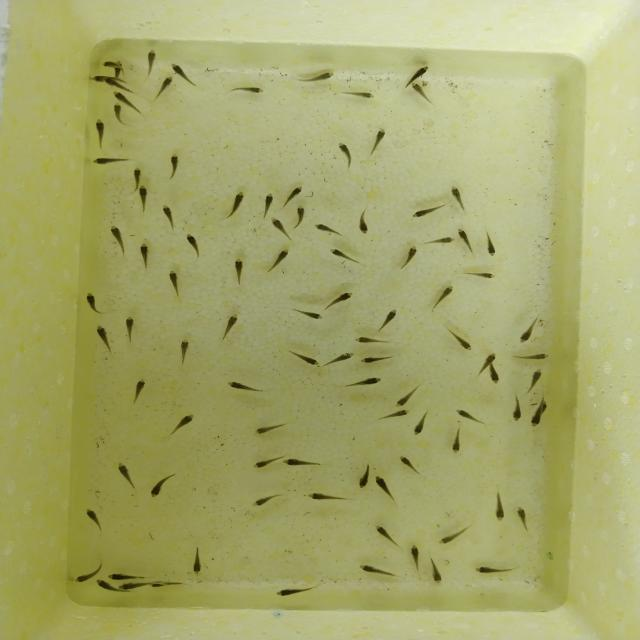fingerling: (373, 305, 406, 334), (370, 524, 404, 551), (442, 327, 477, 352), (283, 344, 321, 367), (512, 314, 540, 345), (248, 490, 289, 511), (92, 324, 123, 351), (352, 561, 396, 580), (292, 70, 341, 87), (319, 290, 356, 312), (337, 375, 386, 391), (164, 413, 200, 434), (170, 63, 204, 85), (326, 245, 363, 265), (105, 224, 128, 256), (263, 247, 289, 275), (374, 474, 400, 502), (432, 528, 474, 545), (113, 91, 144, 114), (408, 81, 435, 107), (430, 283, 456, 310), (226, 185, 246, 218), (354, 204, 374, 237), (448, 182, 470, 212), (284, 306, 325, 322), (412, 407, 433, 438), (280, 183, 307, 207), (393, 384, 420, 408), (397, 454, 424, 478), (425, 556, 446, 586), (491, 487, 509, 522), (225, 380, 264, 396), (220, 312, 242, 340), (248, 422, 292, 436), (305, 490, 346, 505), (184, 230, 203, 262), (81, 292, 106, 316), (366, 127, 388, 154), (287, 205, 308, 233), (374, 408, 413, 423), (456, 227, 478, 253), (398, 245, 420, 271), (165, 153, 186, 180), (147, 473, 168, 500), (135, 241, 154, 270), (153, 73, 175, 98), (83, 509, 108, 531), (335, 139, 355, 166), (513, 504, 532, 532), (129, 378, 151, 402), (74, 562, 100, 582), (454, 407, 486, 423), (258, 192, 279, 216), (481, 230, 499, 258), (324, 351, 355, 367), (450, 426, 466, 457), (340, 89, 381, 101), (461, 268, 502, 280), (508, 351, 552, 362), (136, 183, 152, 213), (314, 222, 344, 238), (283, 456, 323, 468), (190, 547, 206, 577), (160, 202, 177, 230), (271, 587, 314, 598), (358, 353, 397, 365), (251, 454, 280, 470), (92, 118, 107, 148), (230, 258, 248, 283), (408, 206, 440, 220), (474, 351, 496, 371), (352, 335, 392, 346), (116, 461, 134, 485), (473, 565, 515, 575), (106, 79, 132, 95), (406, 64, 432, 80), (424, 235, 456, 248), (526, 367, 544, 390), (508, 400, 525, 424), (168, 270, 183, 297), (178, 338, 192, 366), (357, 462, 372, 488), (89, 157, 132, 166), (124, 166, 144, 185), (270, 218, 288, 239), (108, 104, 125, 126), (485, 369, 507, 386), (145, 47, 157, 78), (531, 397, 542, 429), (95, 578, 117, 594), (150, 580, 190, 588), (117, 581, 152, 590), (125, 317, 137, 343), (407, 546, 420, 570), (233, 85, 266, 94), (108, 573, 146, 579), (100, 60, 118, 68)
